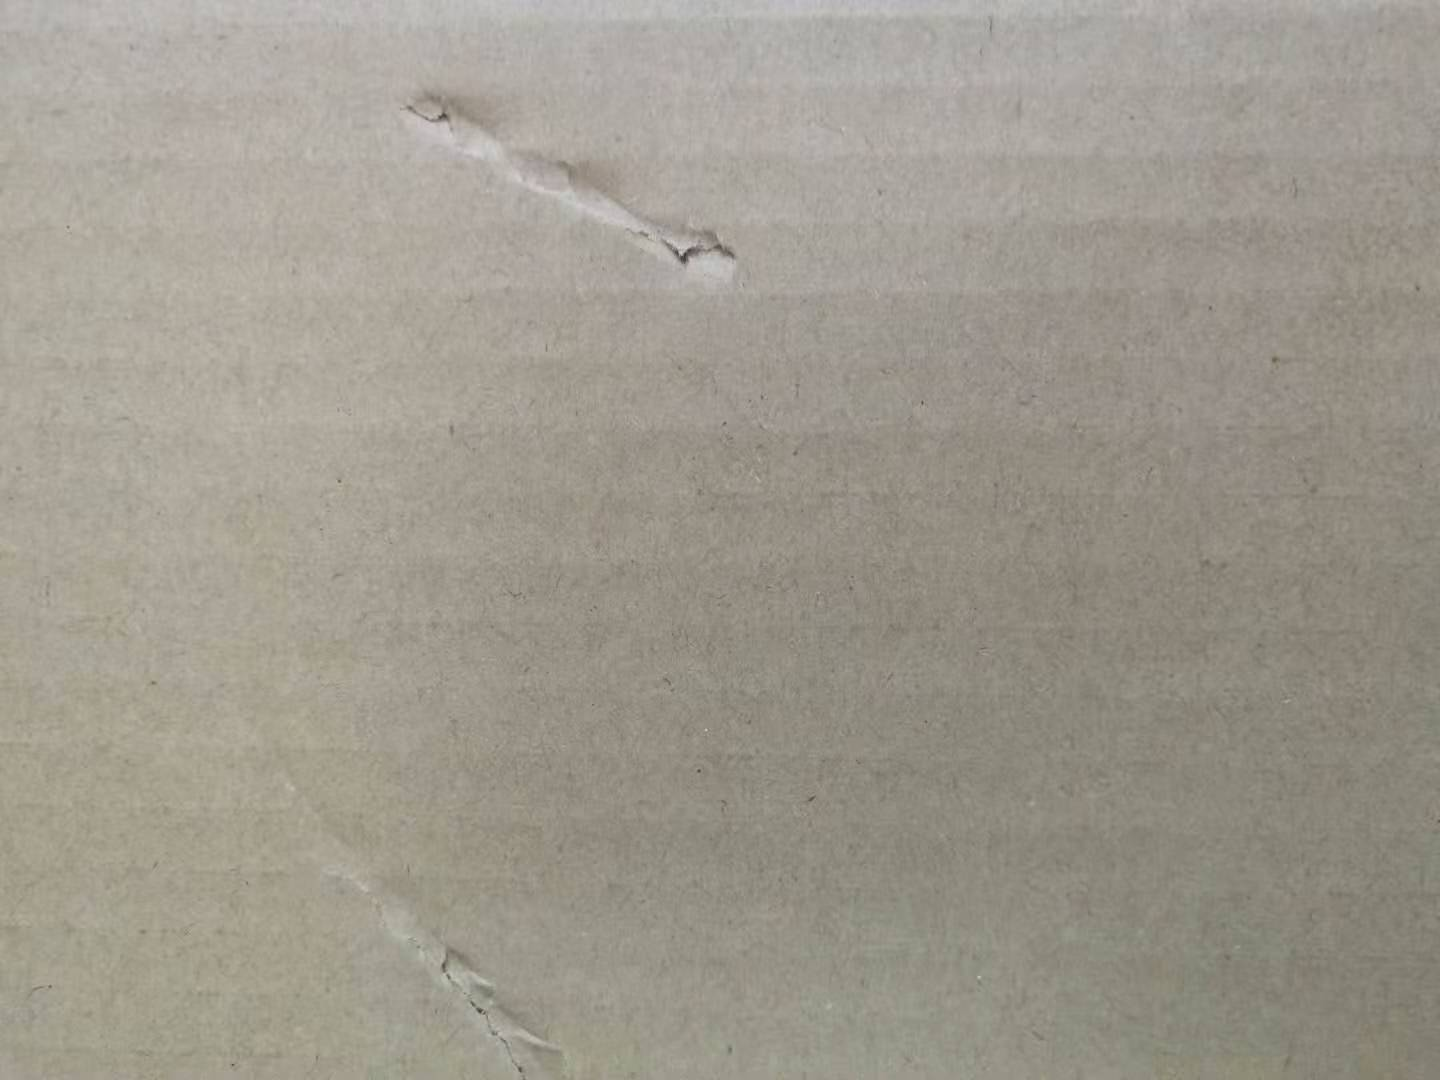defect: (247, 741, 598, 1080), (376, 64, 764, 317)
